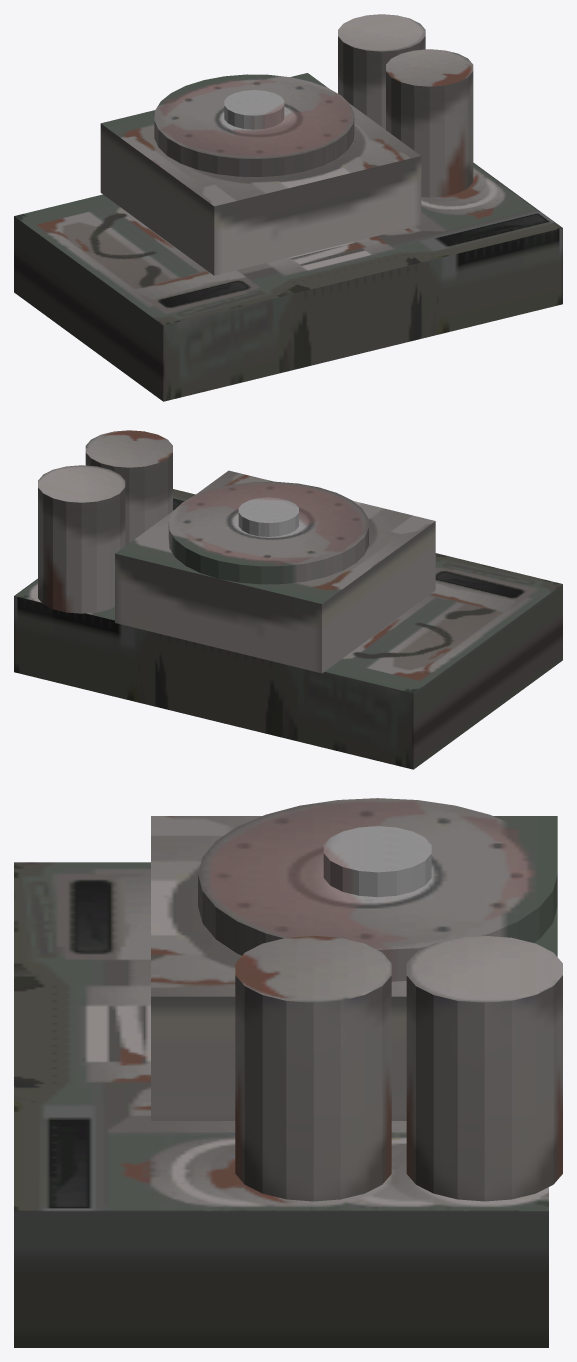
Rendered from Building_AncientMechGestator.obj.
3 renders of one model, top to bottom at view 1: azimuth 30°, elevation 25°; view 2: azimuth 150°, elevation 25°; view 3: azimuth 270°, elevation 25°, orthographic. The views are drawn at different scales.
Parts seen in each view (by area): view 1: Body; view 2: Body; view 3: Body.
Boxes of the visible parts, <box> form: Body: <box>14,14,562,401</box>; Body: <box>14,430,562,769</box>; Body: <box>14,798,562,1347</box>.
Bounding box in the file's own units: 3.02 × 1.35 × 2.
1 material, 1 textured.
